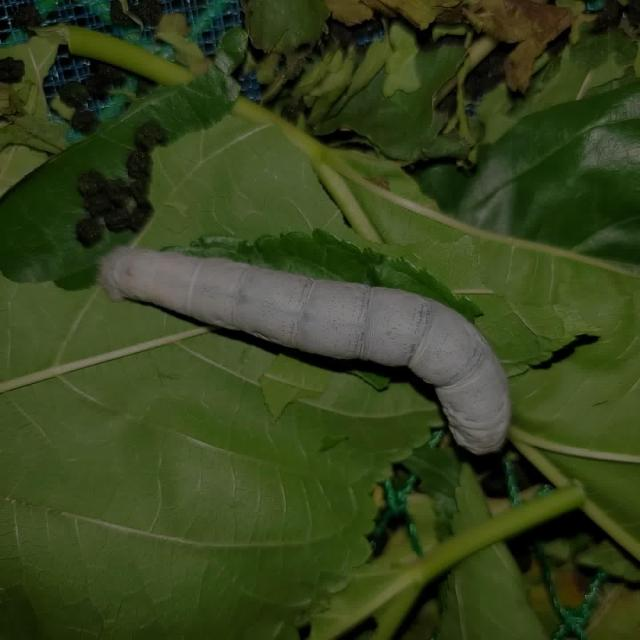Healthy: (88, 233, 529, 472)
